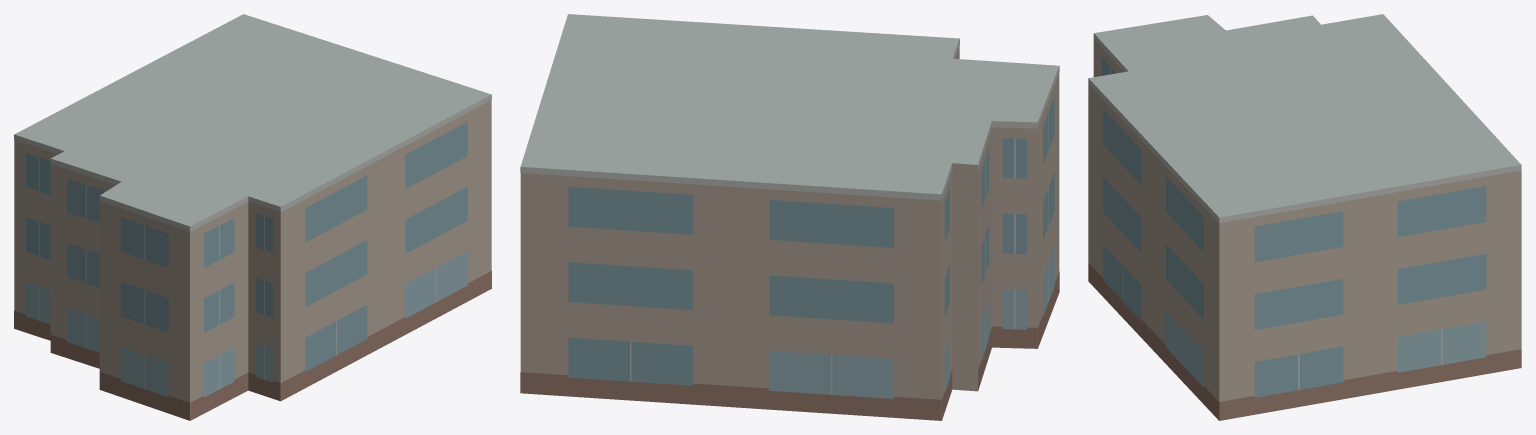
Rendered from survey-upis-32833512.glb.
The picture shows the model from 3 angles, left to right: view 1: azimuth 30°, elevation 25°; view 2: azimuth 150°, elevation 25°; view 3: azimuth 270°, elevation 25°; orthographic projection. The views are drawn at different scales.
Parts seen in each view (by area): view 1: survey-upis-32833512.tmp; view 2: survey-upis-32833512.tmp; view 3: survey-upis-32833512.tmp.
Boxes of the visible parts, x1,y1,x2,y2 form: survey-upis-32833512.tmp: (14,14,491,420); survey-upis-32833512.tmp: (520,14,1059,420); survey-upis-32833512.tmp: (1088,14,1521,420).
Bounding box in the file's own units: 19.15 × 8.9 × 17.2.
